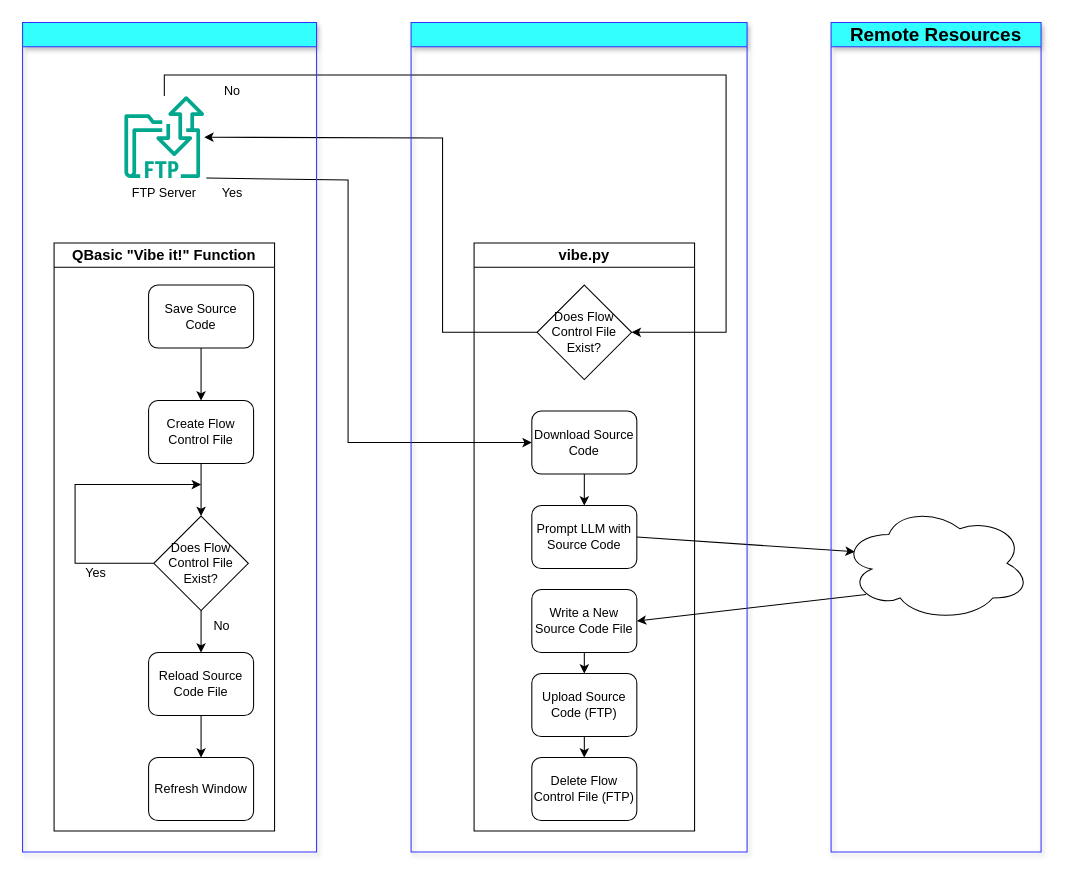
The diagram is 1066 pixels wide and 878 high, and some of its shapes have lost their labels. Each missing label, with the centre of its shape:
"Gemini 2.5 Flash Large Language Model" goes at [936,563].
"Modern Computer" goes at [579,438].
"Windows 98 Machine" goes at [170,438].
